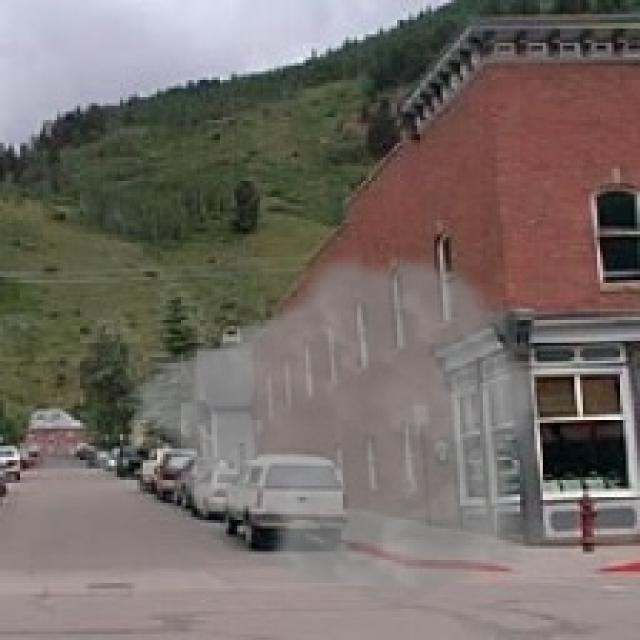smoke: (120, 246, 543, 603)
